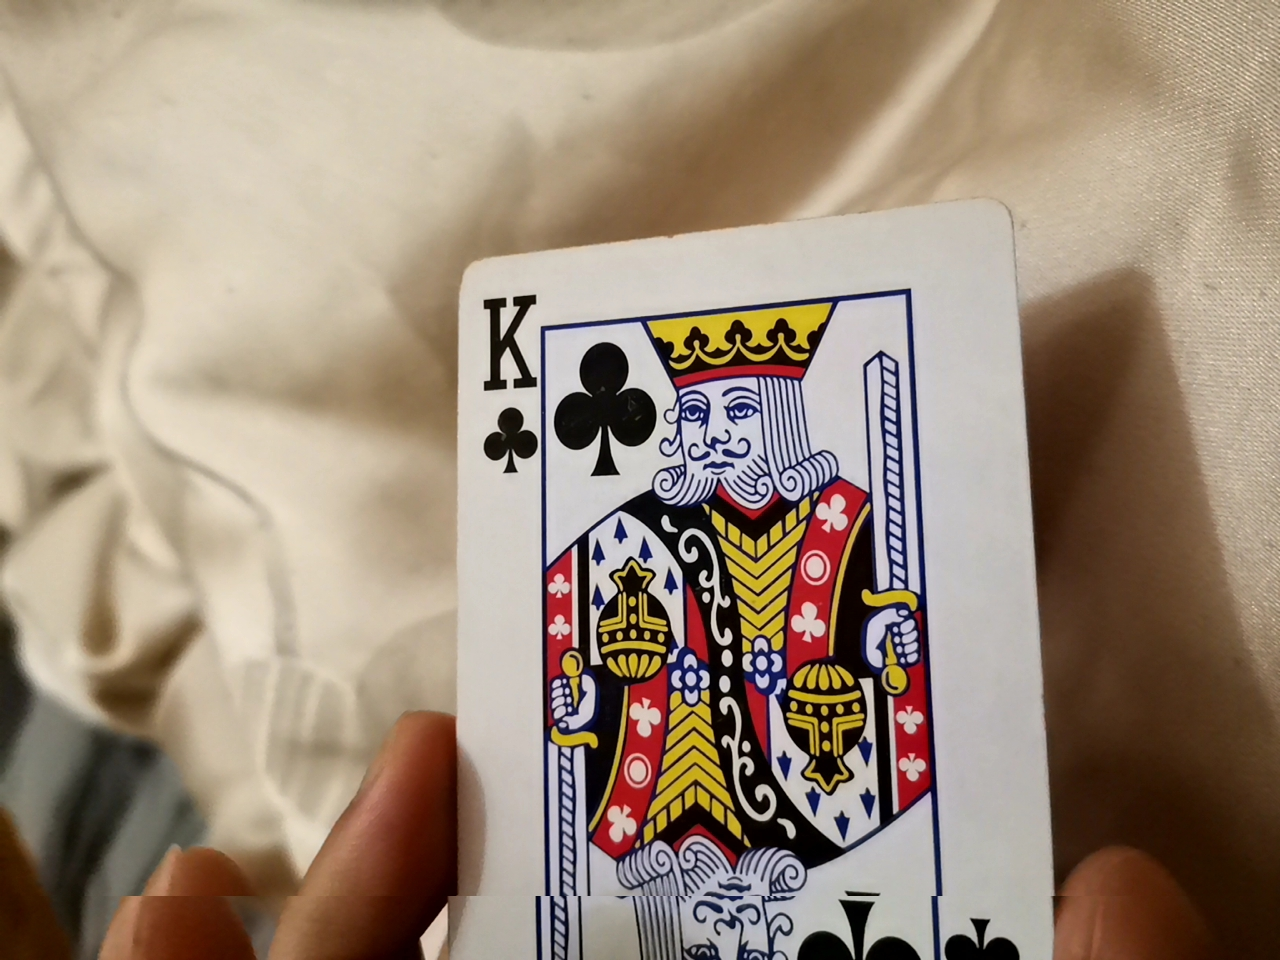mh k: (429, 207, 1074, 947)
